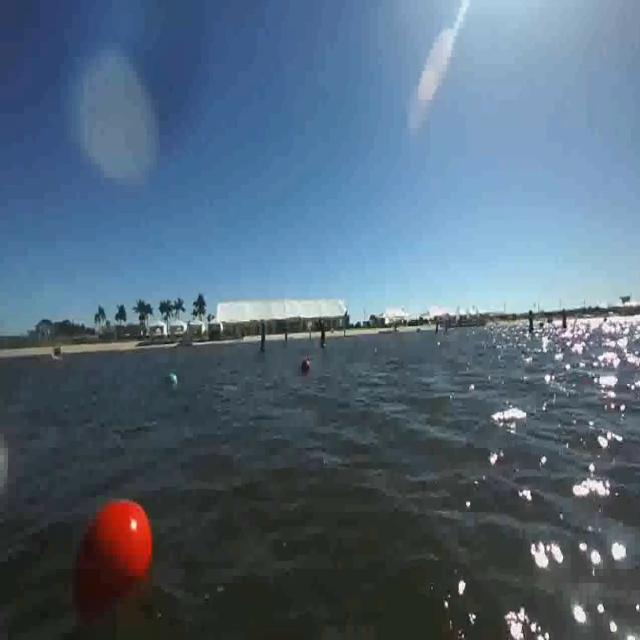black-buoy: (302, 358, 311, 372)
green-buoy: (164, 373, 178, 387)
green-column-buoy: (260, 324, 270, 354)
red-buoy: (62, 492, 162, 639)
